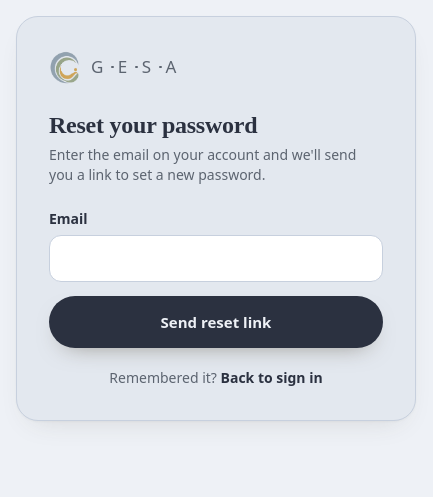
ForgotPasswordPage › shows a friendly, generic error message when the request itself fails (e.g. rate limiting, network) rather than the raw provider message
This screenshot has width=433, height=497.
Step 1. Type "user@example.com" into the field labelled "Email" → (216,259), box [49, 235, 383, 282]
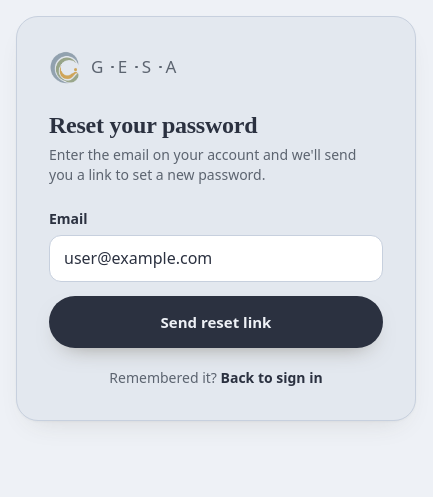
Step 2. Click the button "Send reset link" → (216,322), box [49, 296, 383, 348]
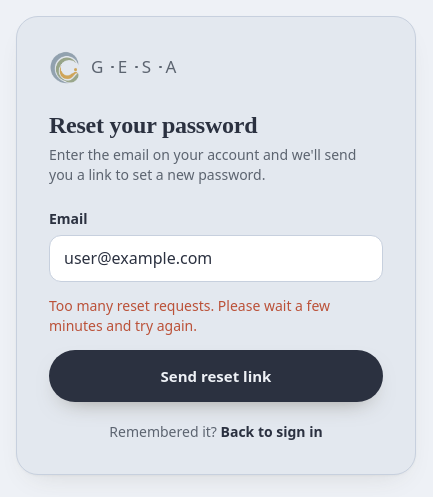
Now the text "Too many reset requests. Please wait a few minutes and try again." is shown, box [49, 296, 330, 336]
